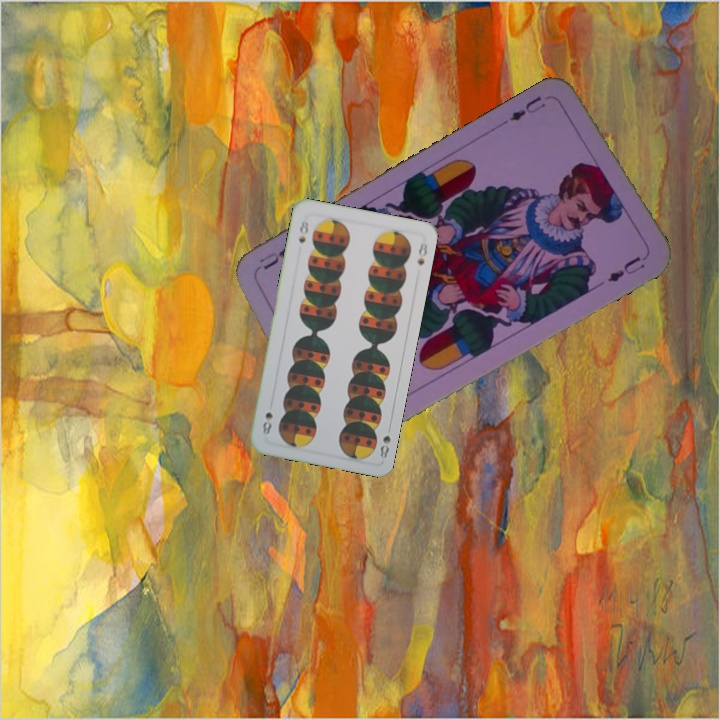EU: (505, 92, 548, 124)
S8: (376, 431, 393, 461), (295, 217, 311, 246)
